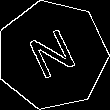N_SE: (23, 24, 82, 87)
